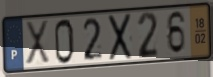0: (53, 17, 76, 65)
2: (136, 11, 159, 61), (81, 17, 104, 62)
6: (166, 10, 187, 56)
X: (107, 12, 133, 63), (24, 19, 51, 67)
